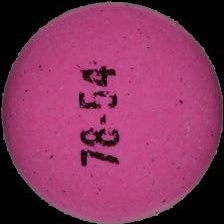63629-3791: (0, 0, 224, 224)
